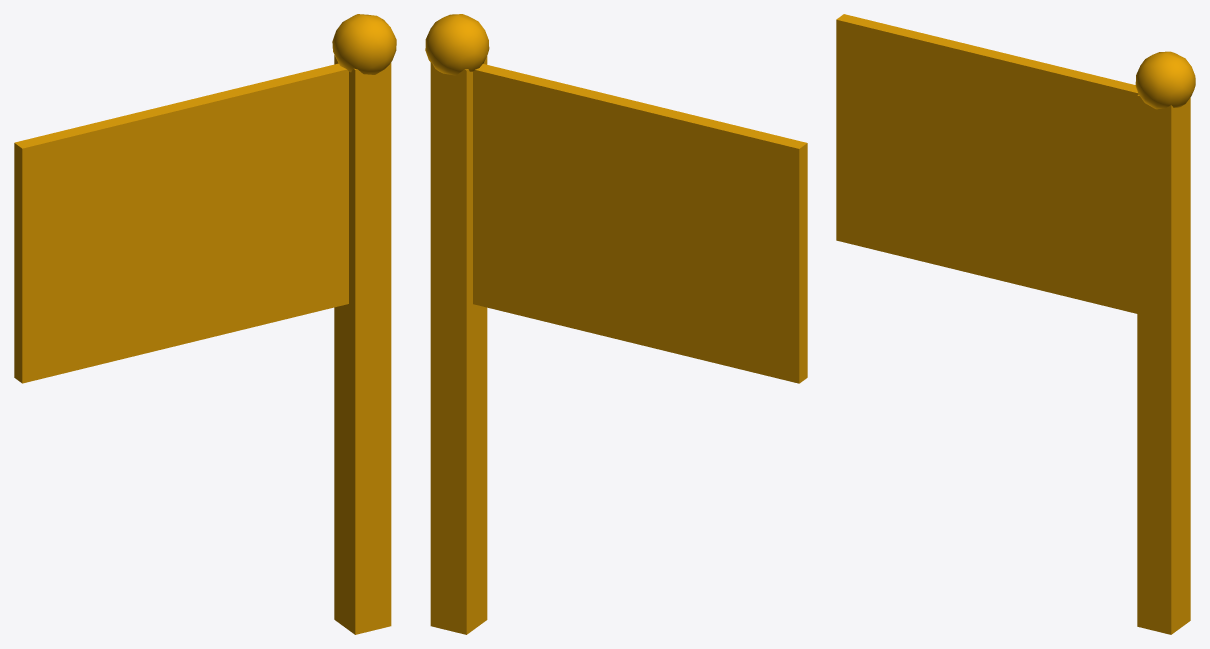
The model's file is Flag.fbx.
The picture shows the model from 3 angles, left to right: view 1: azimuth 30°, elevation 25°; view 2: azimuth 150°, elevation 25°; view 3: azimuth 330°, elevation 25°; orthographic projection. The views are drawn at different scales.
Visible parts, largest first — view 1: Flag; view 2: Flag; view 3: Flag.
Boxes of the visible parts, x1,y1,x2,y2 form: Flag: (14,14,396,634); Flag: (425,14,807,634); Flag: (836,14,1195,634).
Size of the model in its own units: 20.79 by 32.22 by 3.
